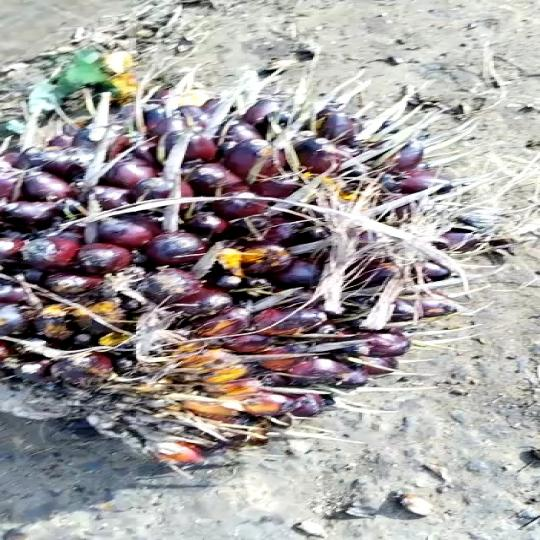kurang masak: (1, 76, 498, 454)
